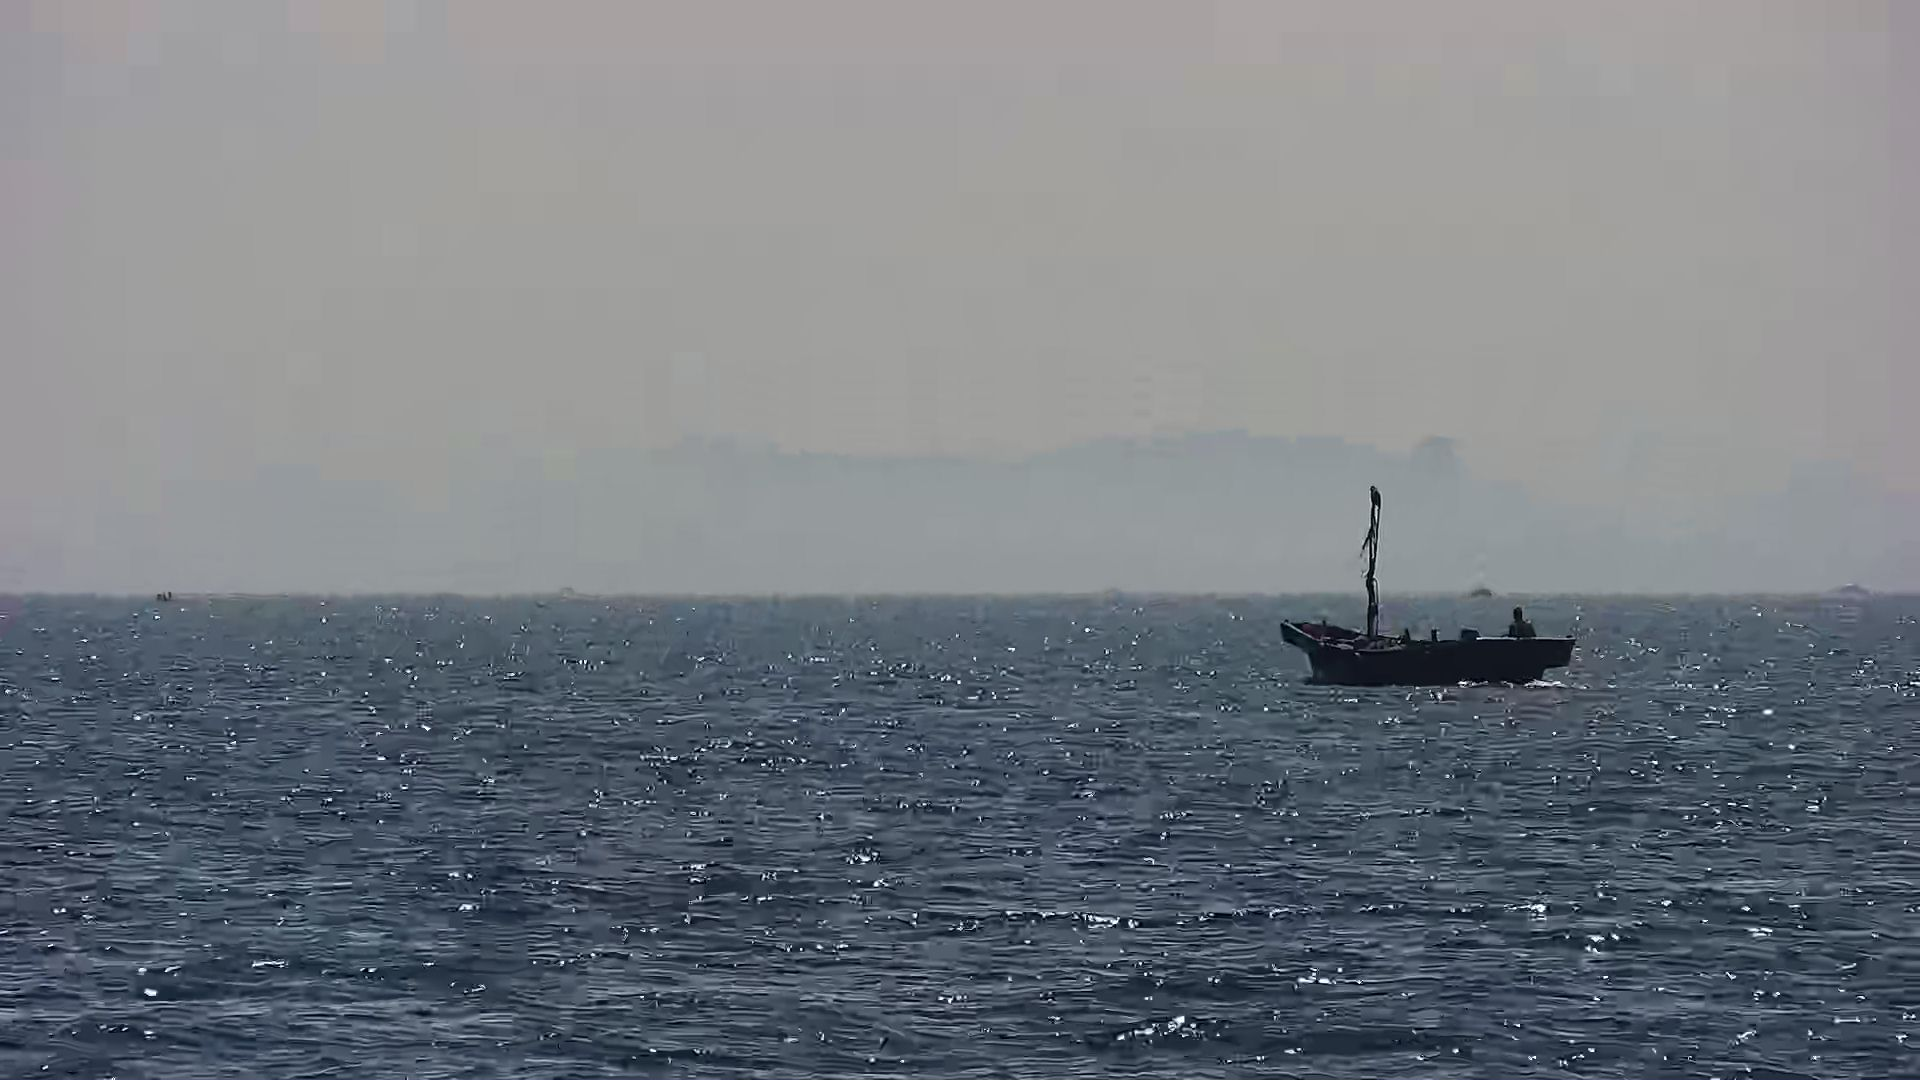boat: (1278, 615, 1575, 690)
